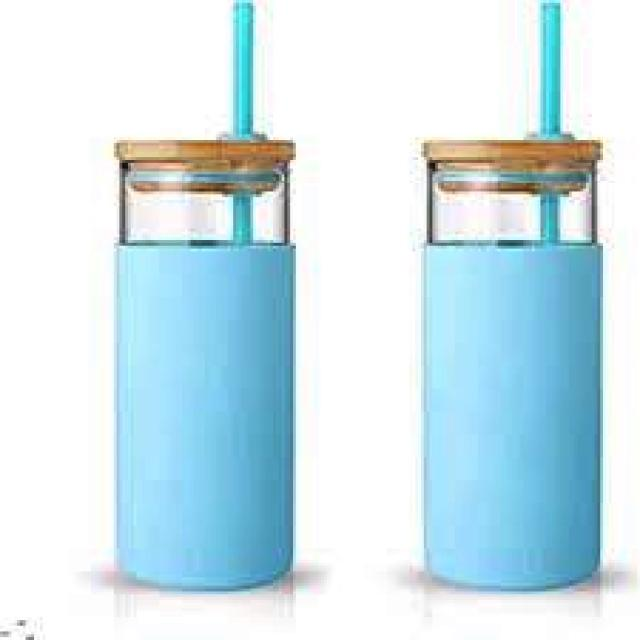bottle: (107, 2, 300, 604), (414, 0, 604, 597)
